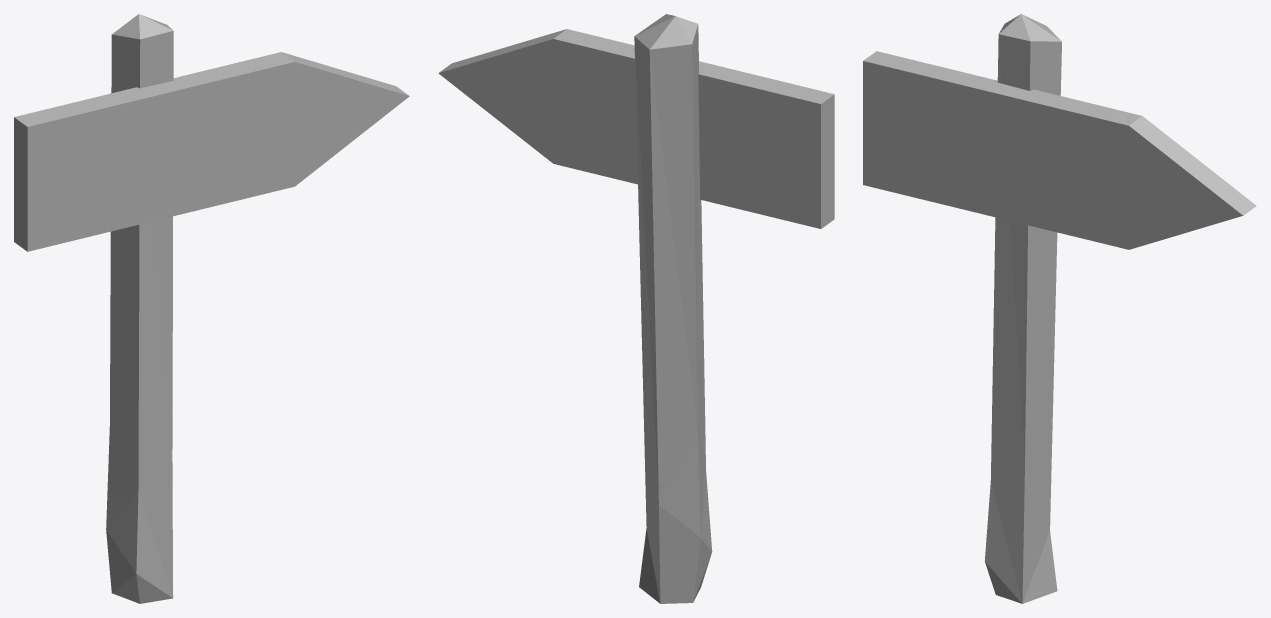
File: Pointer_02.fbx
The picture shows the model from 3 angles, left to right: view 1: azimuth 30°, elevation 25°; view 2: azimuth 150°, elevation 25°; view 3: azimuth 330°, elevation 25°; orthographic projection.
Visible parts, largest first — view 1: Pointer_02; view 2: Pointer_02; view 3: Pointer_02.
Boxes of the visible parts, x1,y1,x2,y2 form: Pointer_02: (14, 14, 409, 603); Pointer_02: (438, 14, 834, 603); Pointer_02: (863, 14, 1256, 603).
Size of the model in its own units: 1.06 by 1.54 by 0.1995.
